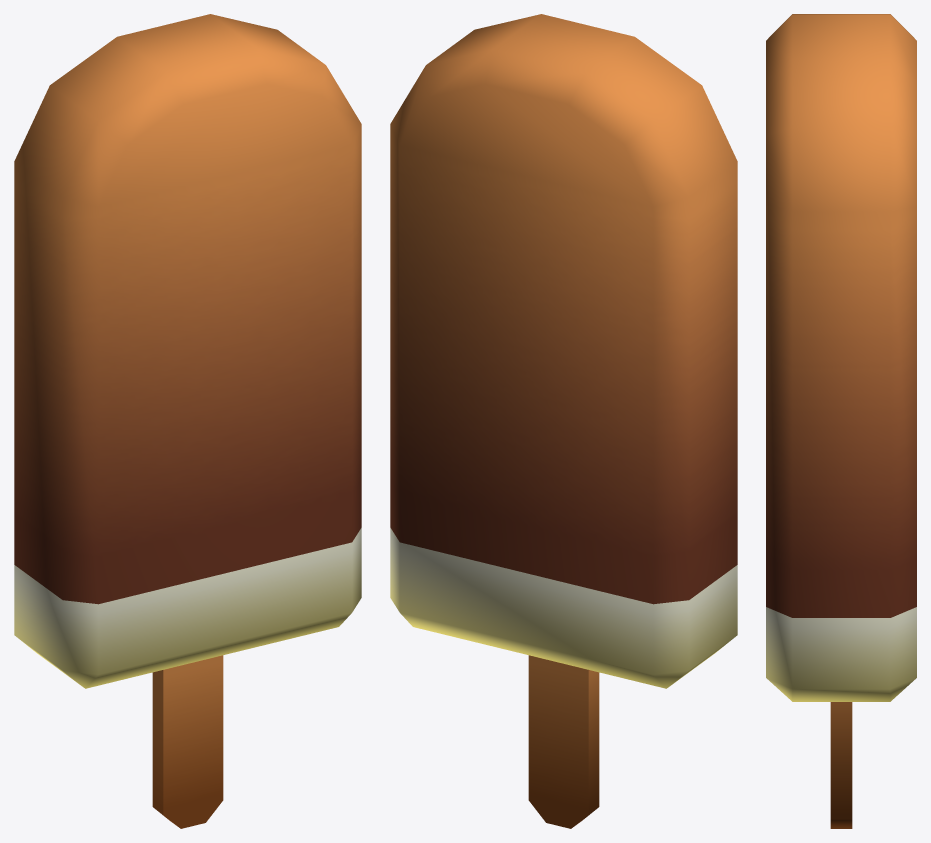
Rendered from m_SimplePopsicle03.fbx.
3 views of the same model, side by side, from view 1: azimuth 30°, elevation 25°; view 2: azimuth 150°, elevation 25°; view 3: azimuth 270°, elevation 25° (orthographic).
Visible parts, largest first — view 1: m_SimplePopsicle03; view 2: m_SimplePopsicle03; view 3: m_SimplePopsicle03.
Boxes of the visible parts, <box> form: m_SimplePopsicle03: <box>14,14,361,828</box>; m_SimplePopsicle03: <box>390,14,737,828</box>; m_SimplePopsicle03: <box>766,14,916,828</box>.
Bounding box in the file's own units: 9.24 × 22.99 × 4.
